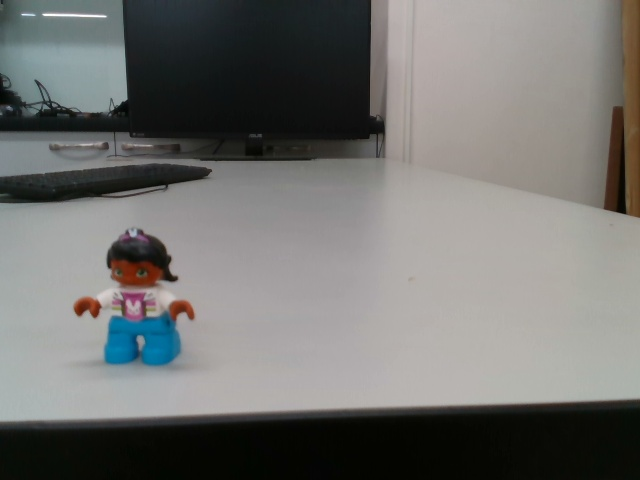people: (70, 225, 198, 367)
